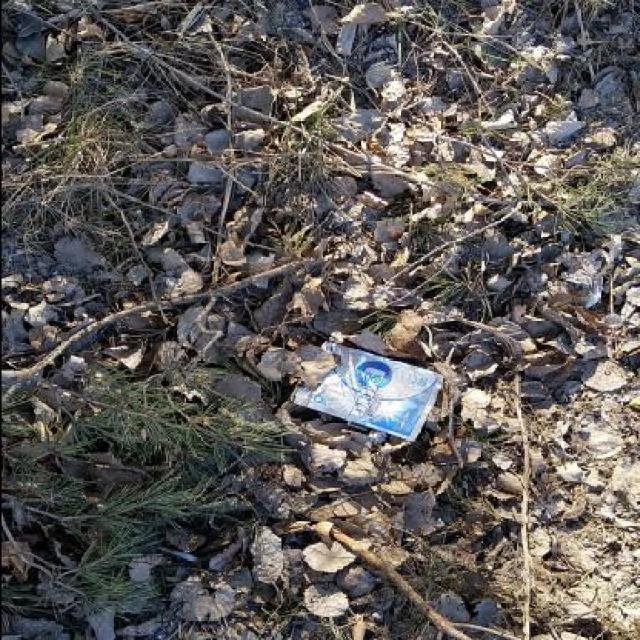plastic: (292, 341, 442, 442)
